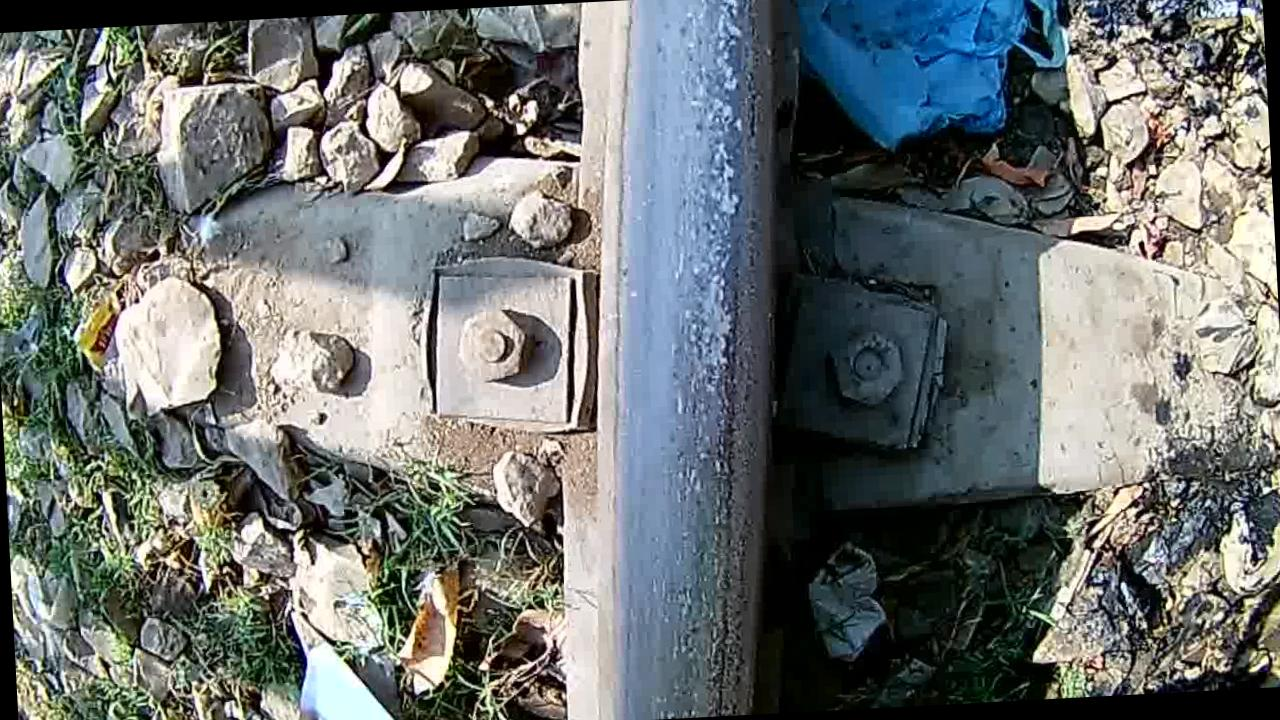clip_missing: (592, 0, 808, 720)
